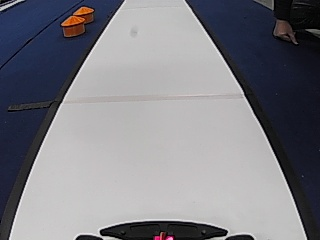granary: (60, 13, 86, 38), (74, 7, 94, 24)
